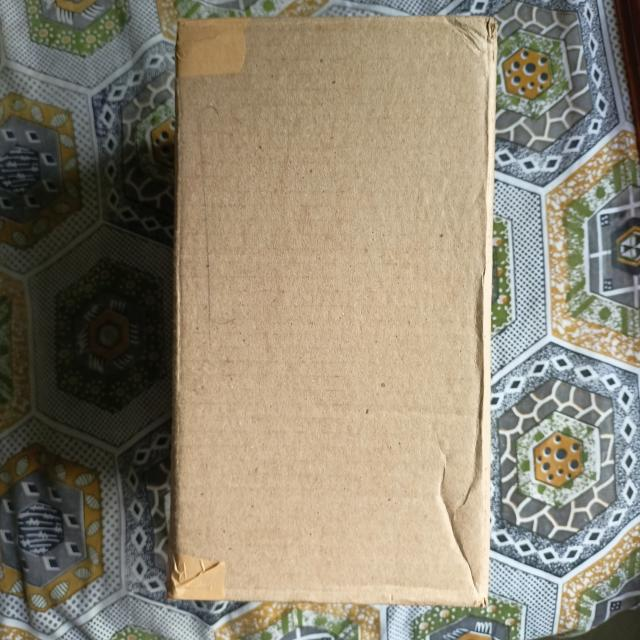box: (169, 16, 498, 612)
